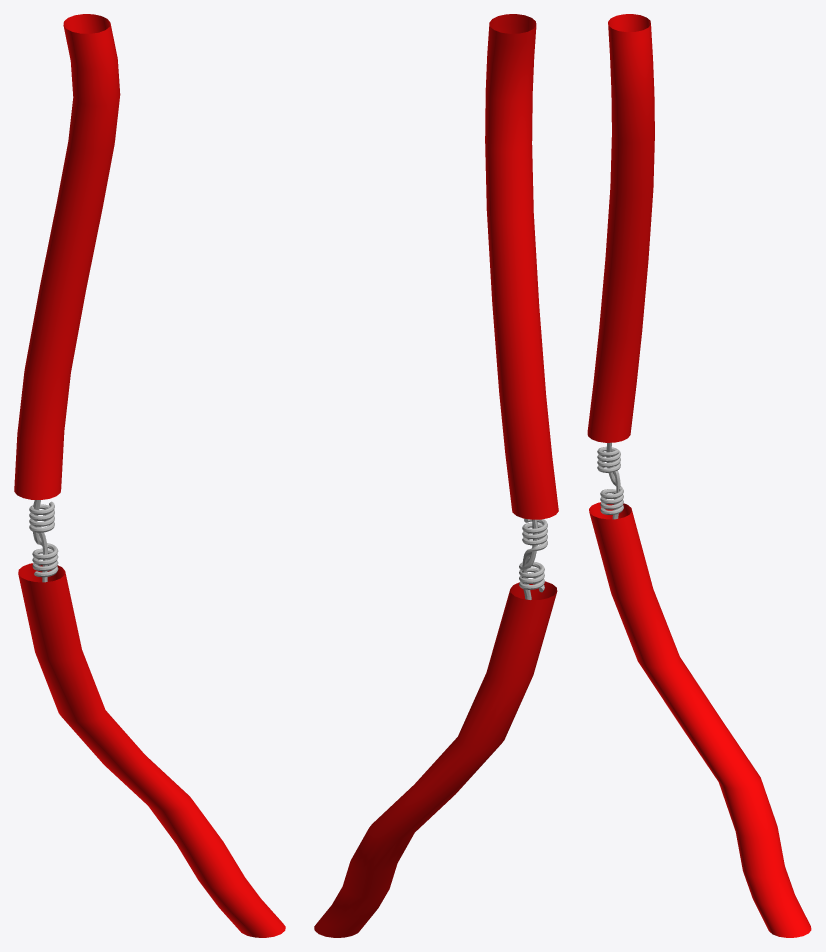
File: wire_soldered_2.gltf
3 renders of one model, left to right at view 1: azimuth 30°, elevation 25°; view 2: azimuth 150°, elevation 25°; view 3: azimuth 330°, elevation 25°, orthographic. The views are drawn at different scales.
Parts seen in each view (by area): view 1: wire_broken_2c, pHelix4, pHelix3; view 2: wire_broken_2c, pHelix3, pHelix4; view 3: wire_broken_2c, pHelix4, pHelix3.
Part boxes in pixels (x1,y1,x2,y2): wire_broken_2c: [14, 14, 285, 937]; pHelix4: [32, 500, 58, 577]; pHelix3: [29, 501, 54, 582]; wire_broken_2c: [314, 14, 558, 937]; pHelix3: [521, 518, 547, 599]; pHelix4: [519, 519, 544, 592]; wire_broken_2c: [587, 14, 811, 937]; pHelix4: [600, 442, 623, 514]; pHelix3: [597, 446, 620, 519].
Size of the model in its own units: 0.4365 by 1.56 by 0.1408.
